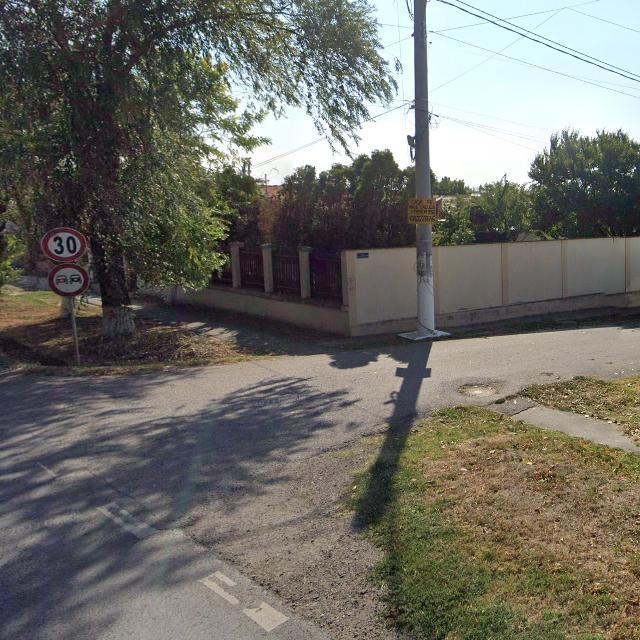forb_overtake: (49, 263, 89, 296)
forb_speed_over_30: (43, 228, 87, 262)
